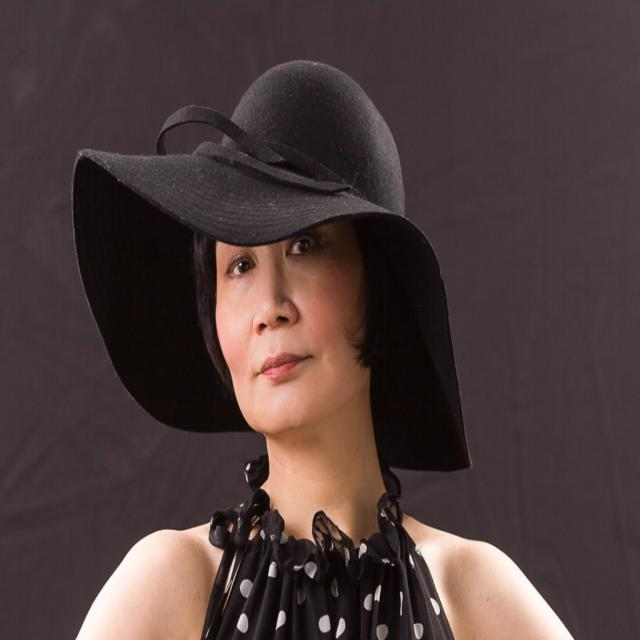Hat: (72, 57, 472, 469)
